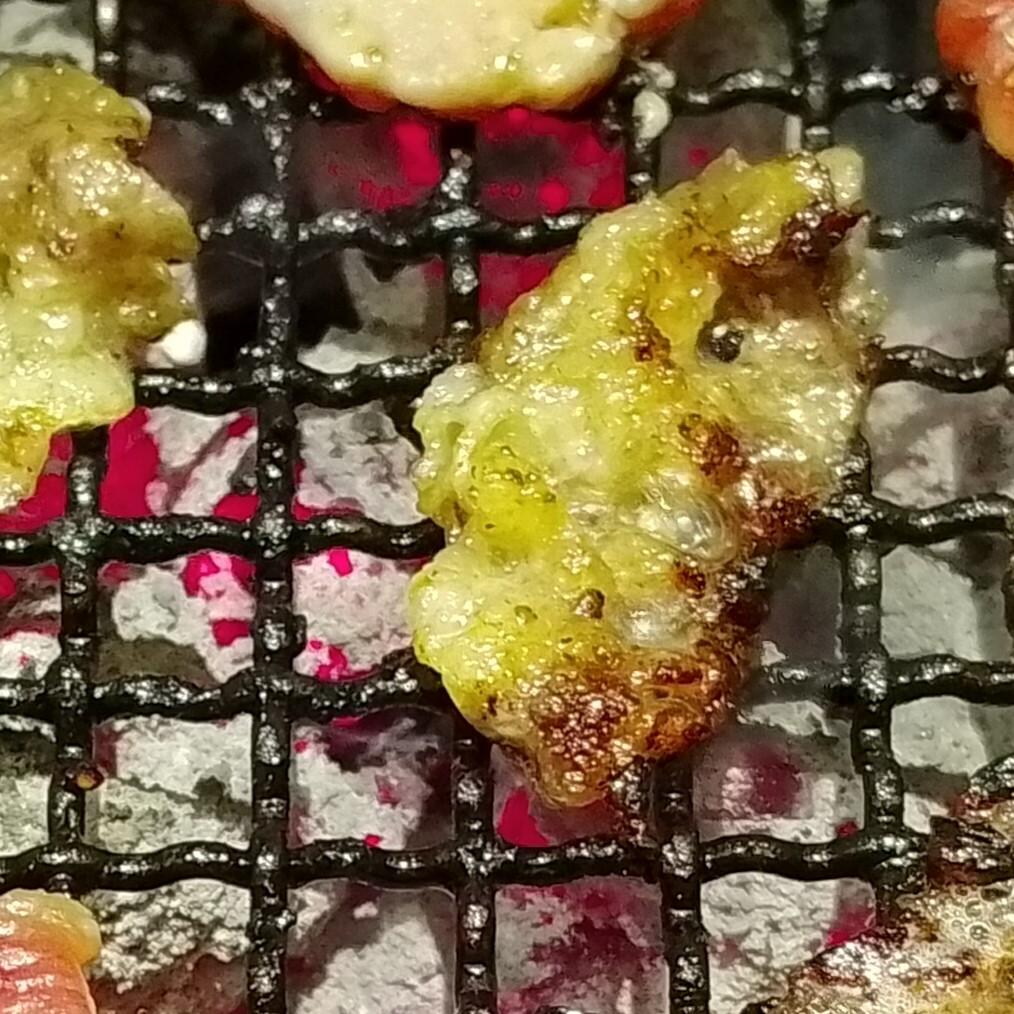Overcooked: (404, 147, 882, 814)
Undercooked: (0, 892, 101, 1013)
Well-Cooked: (0, 55, 198, 522)
